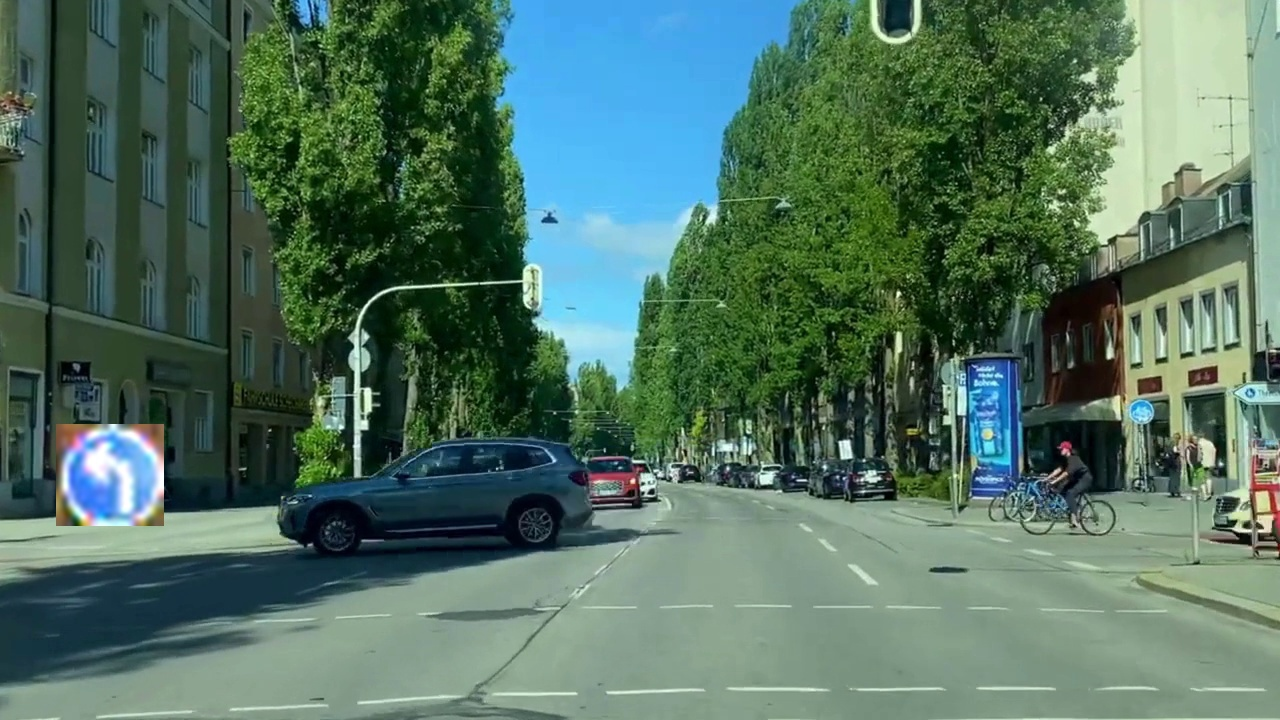Turn left: (56, 424, 164, 526)
